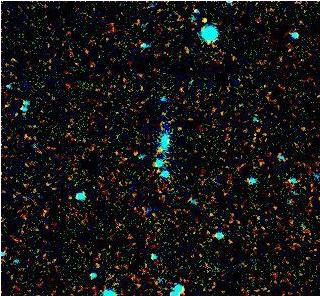star: (189, 6, 219, 36)
